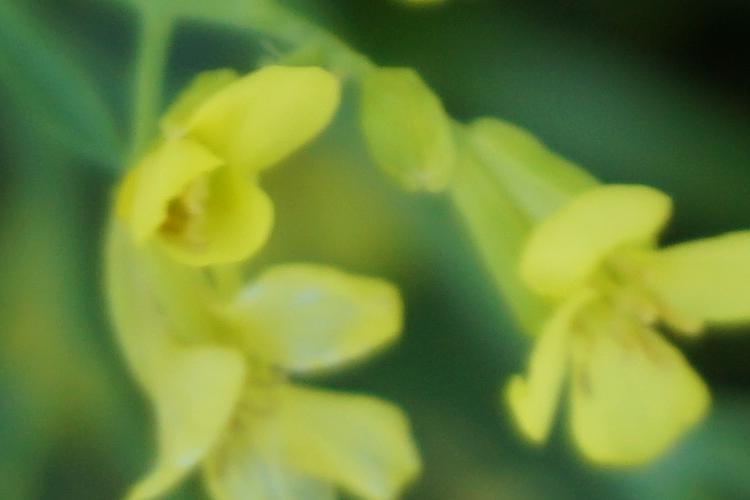bud: (356, 64, 459, 203)
yellow: (475, 146, 750, 474), (87, 247, 434, 500), (115, 51, 343, 275)
